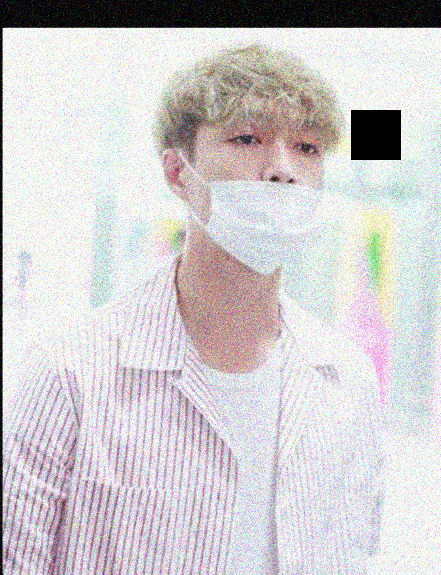mask_weared_incorrect: (191, 124, 330, 278)
